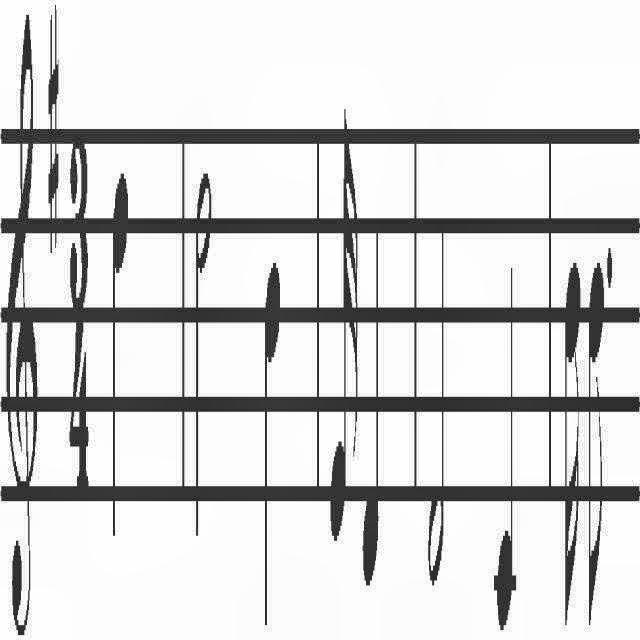Bass-clef: (6, 0, 38, 640)
Diez: (47, 0, 59, 256)
Eighth-note: (588, 250, 604, 640)
Half-note: (193, 171, 213, 554), (426, 220, 446, 596)
Quarter-note: (494, 254, 516, 638), (362, 215, 382, 600), (262, 256, 282, 636), (111, 158, 129, 550)
Sixteenth-note: (564, 246, 582, 634)
